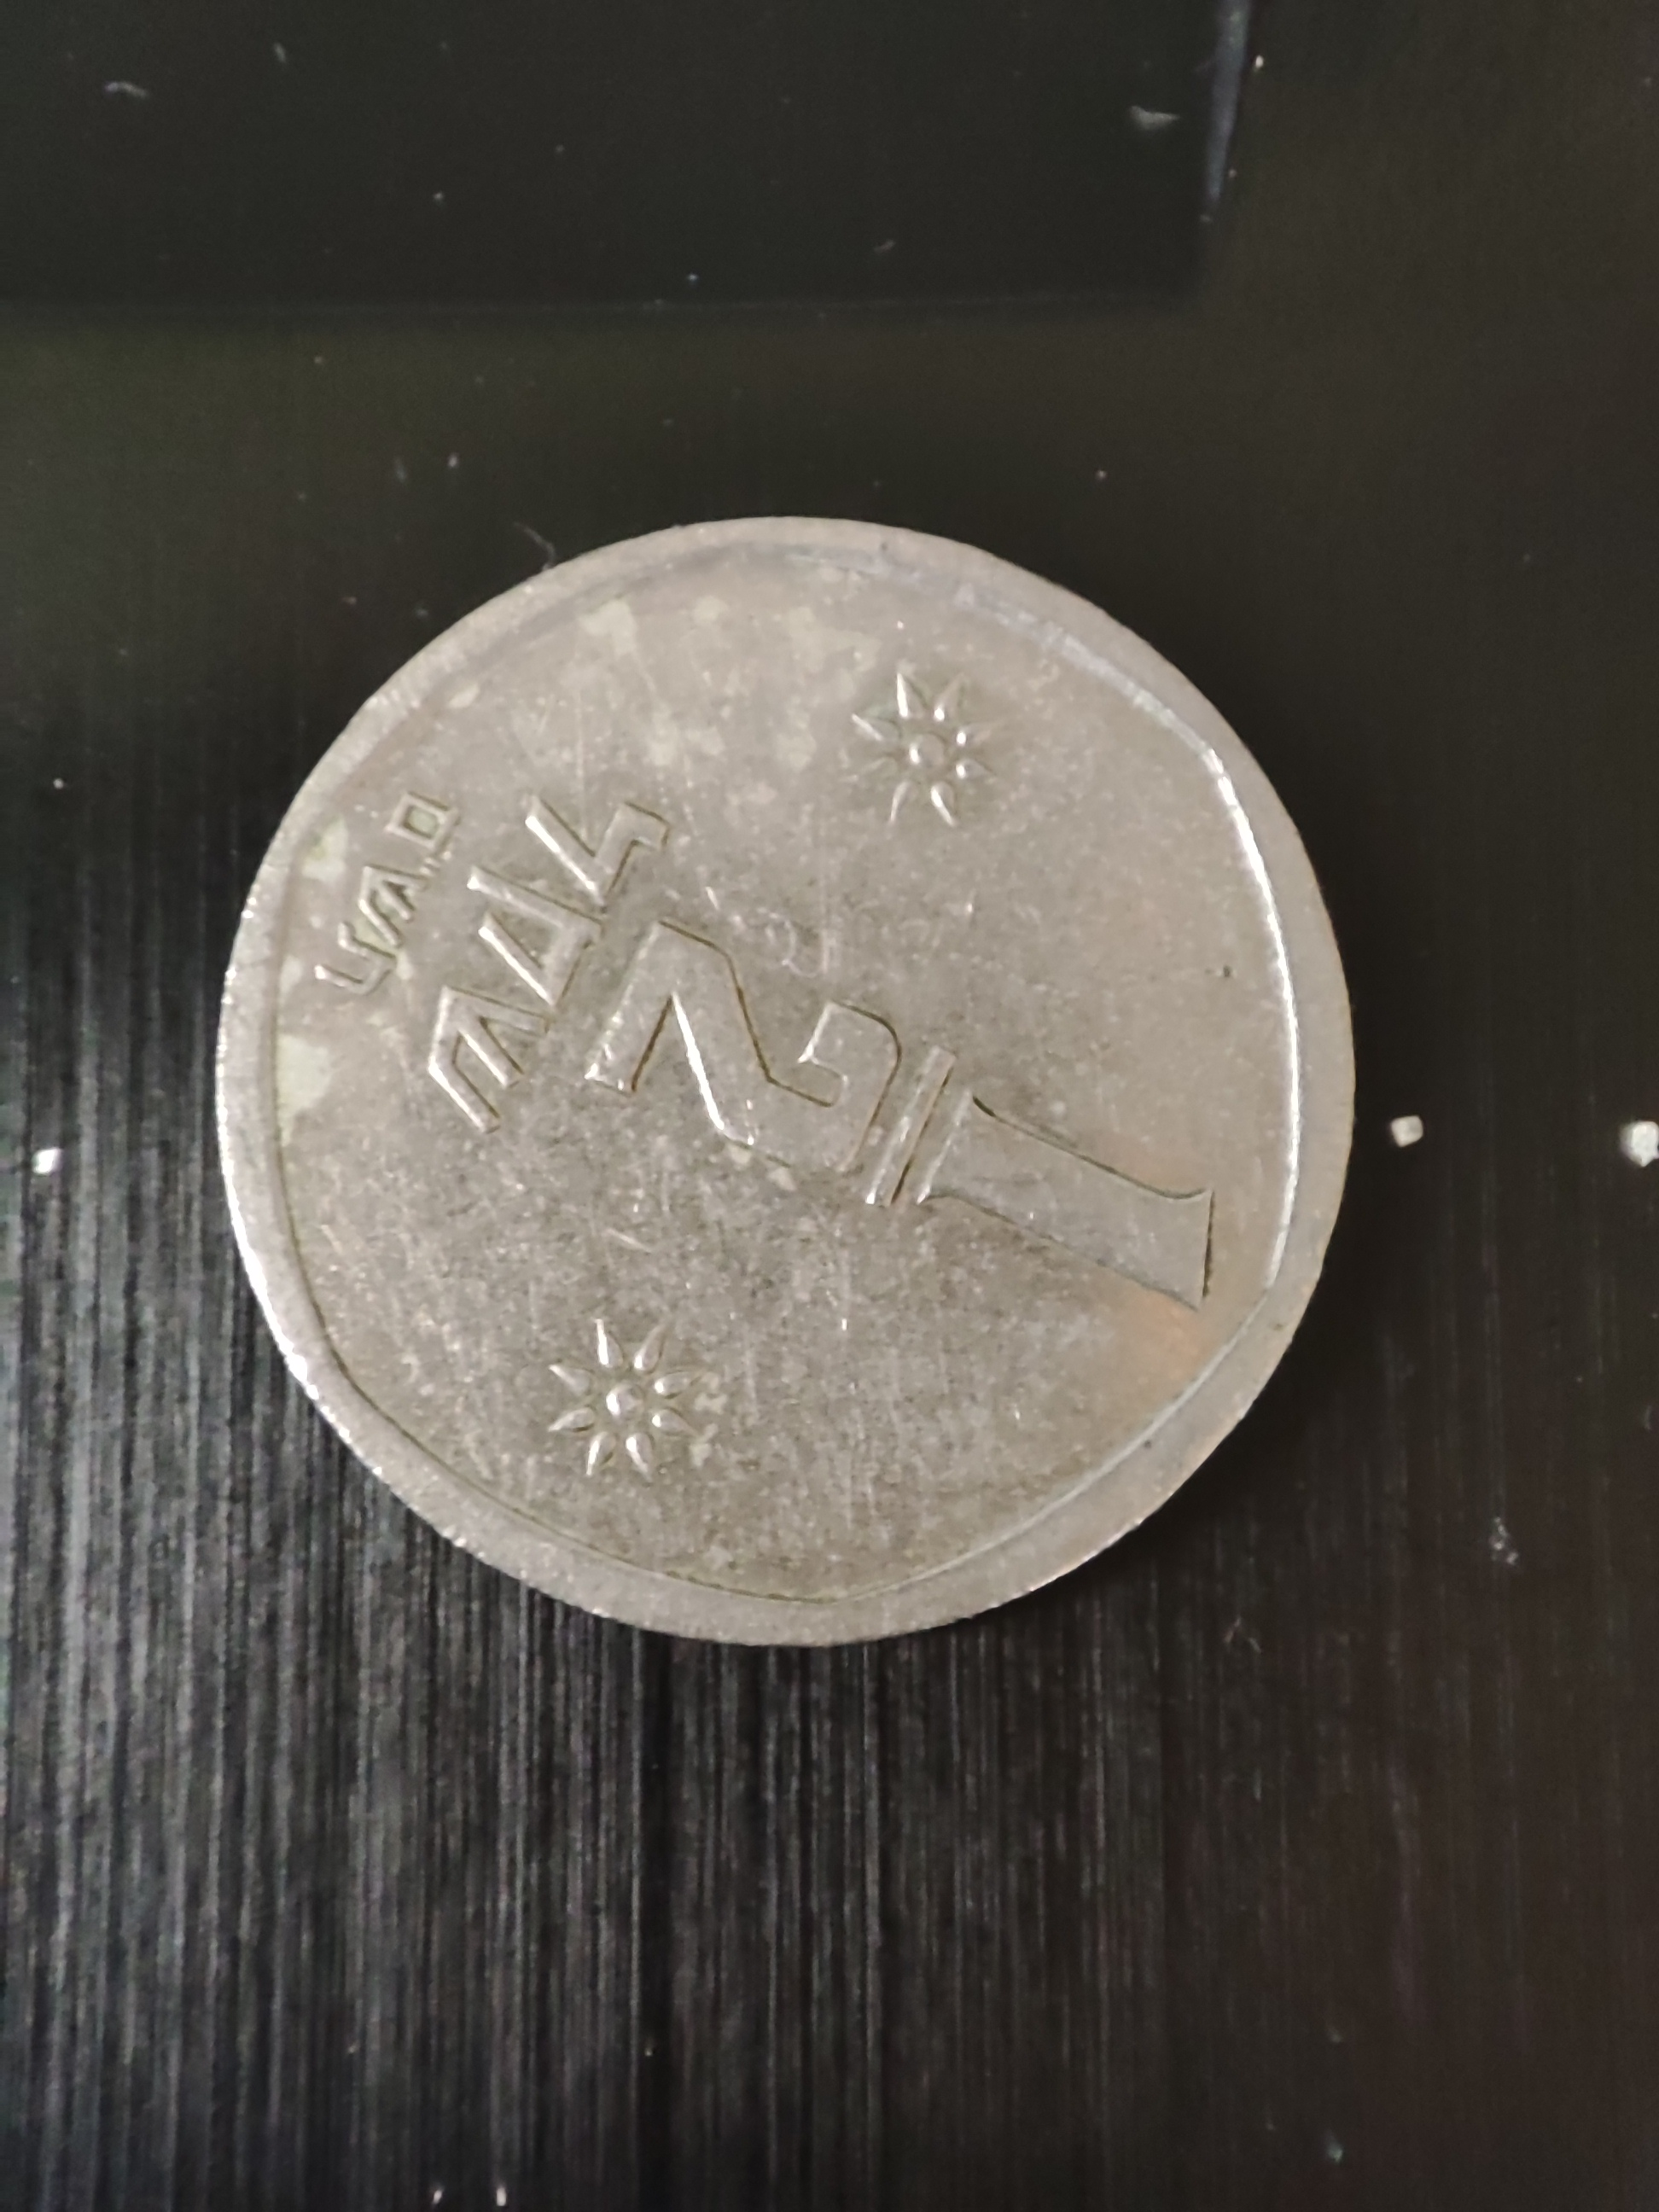1/2 old sheqel: (206, 510, 1363, 1655)
